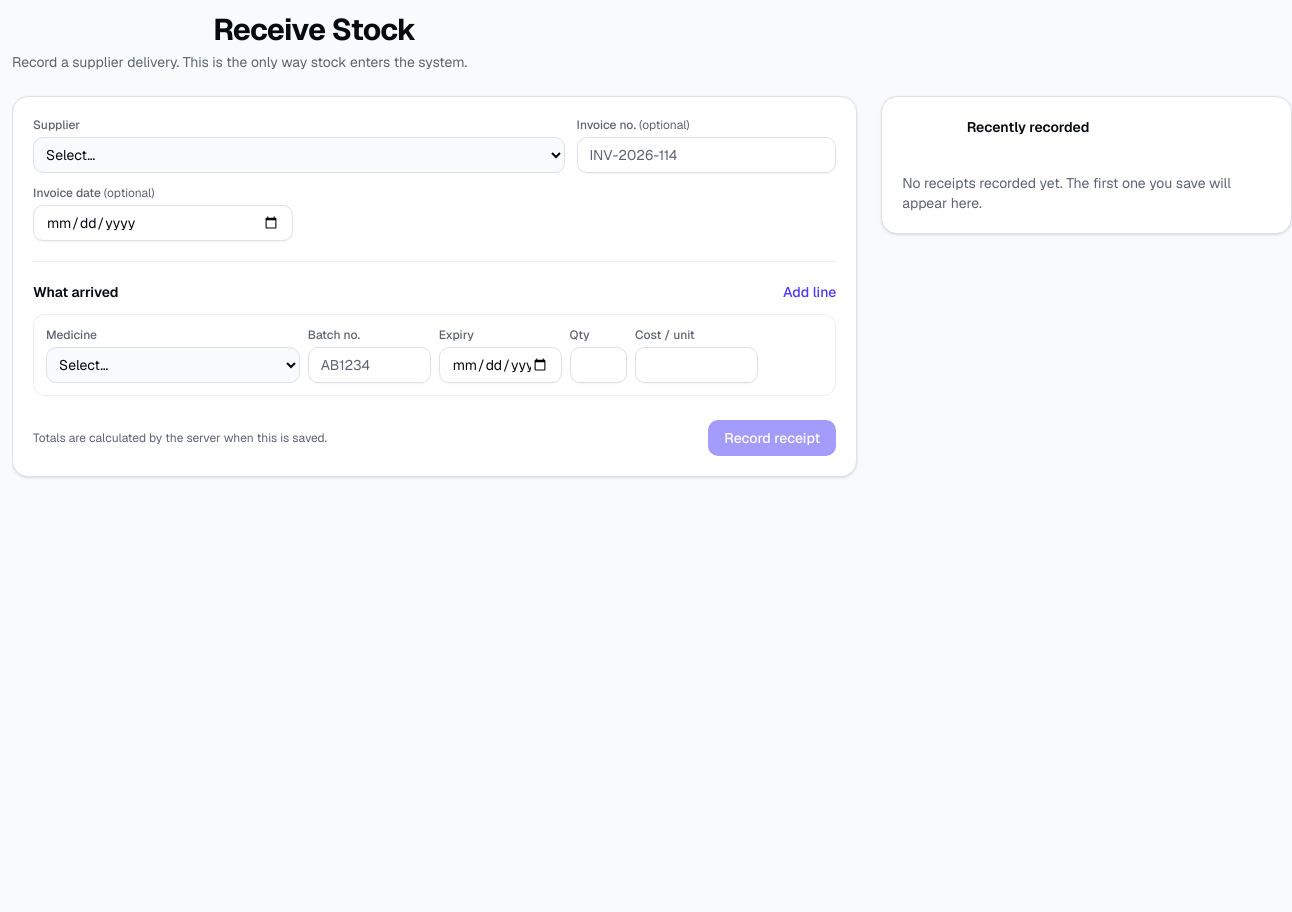
it: success › shows the receipt the server returned, not what was typed
Select "Sun Pharma" in the dropdown labelled "Supplier": (299, 155) [33, 137, 564, 173]
Select "Paracetamol 500mg" in the dropdown labelled "Medicine": (173, 365) [46, 347, 300, 383]
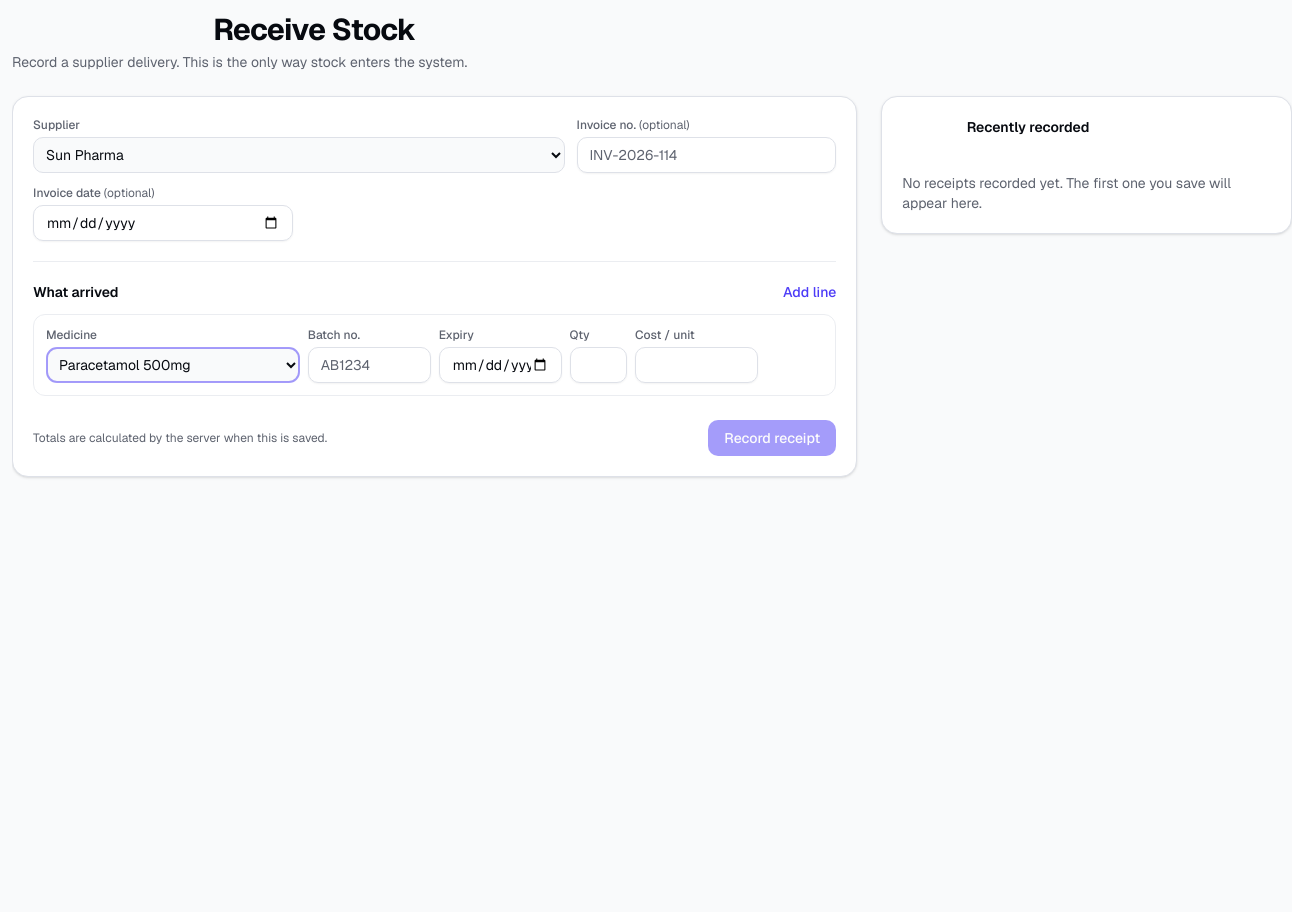
In the field labelled "Batch no.": (369, 365) [308, 347, 431, 383], type "GR-A"
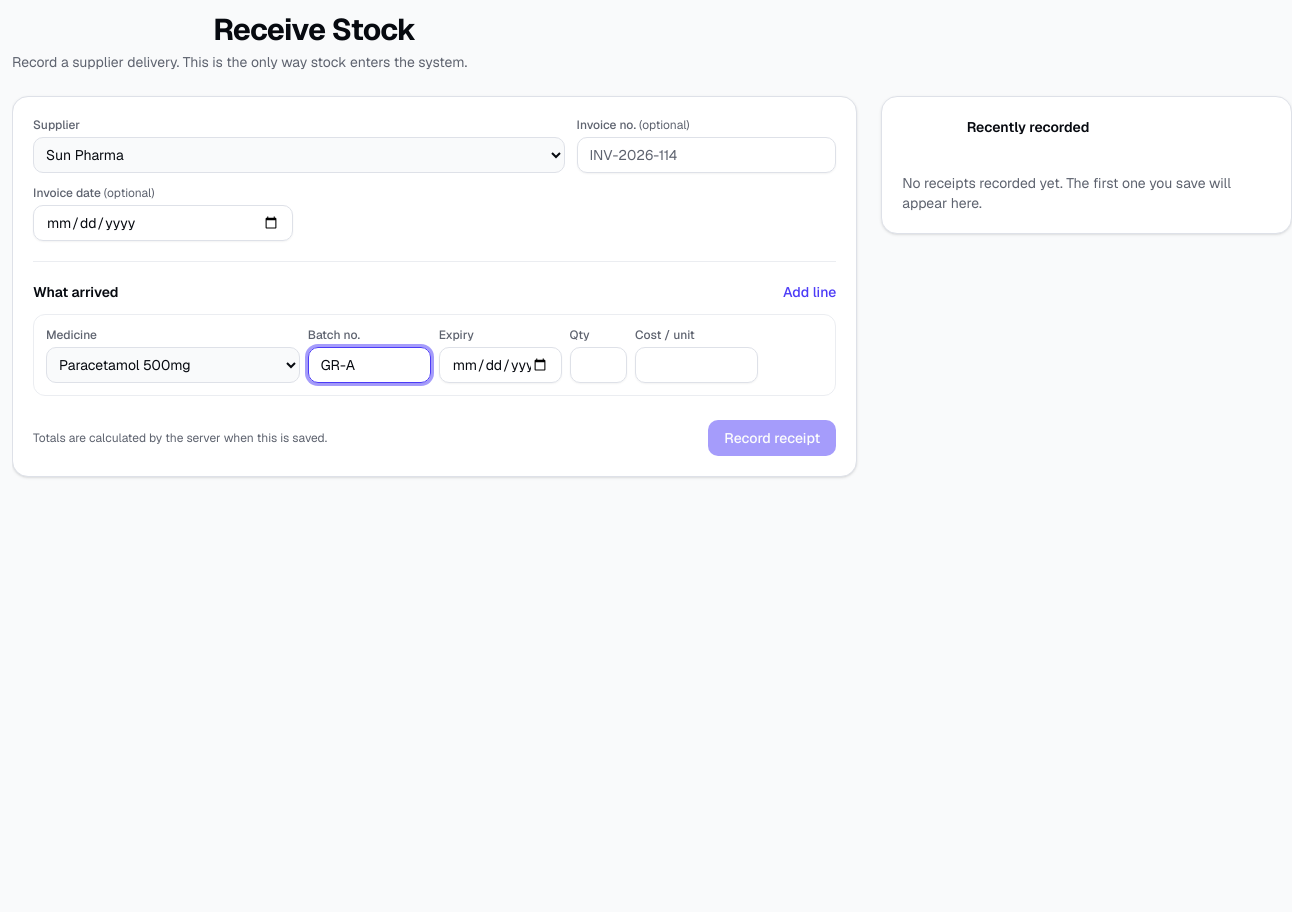
In the date field labelled "Expiry": (500, 365) [439, 347, 562, 383], type "2027-06-30"
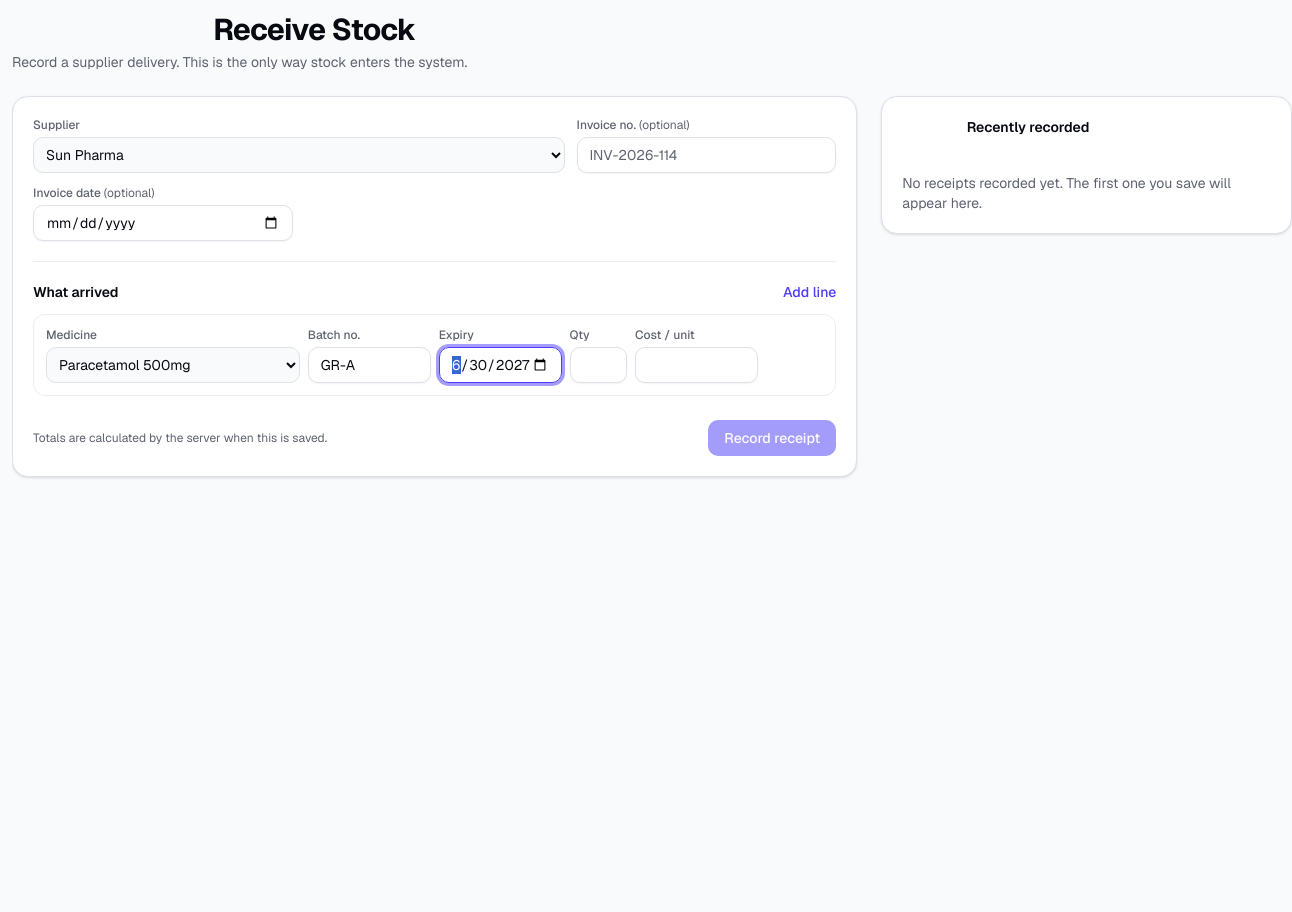
In the number field labelled "Qty": (598, 365) [570, 347, 627, 383], type "100"
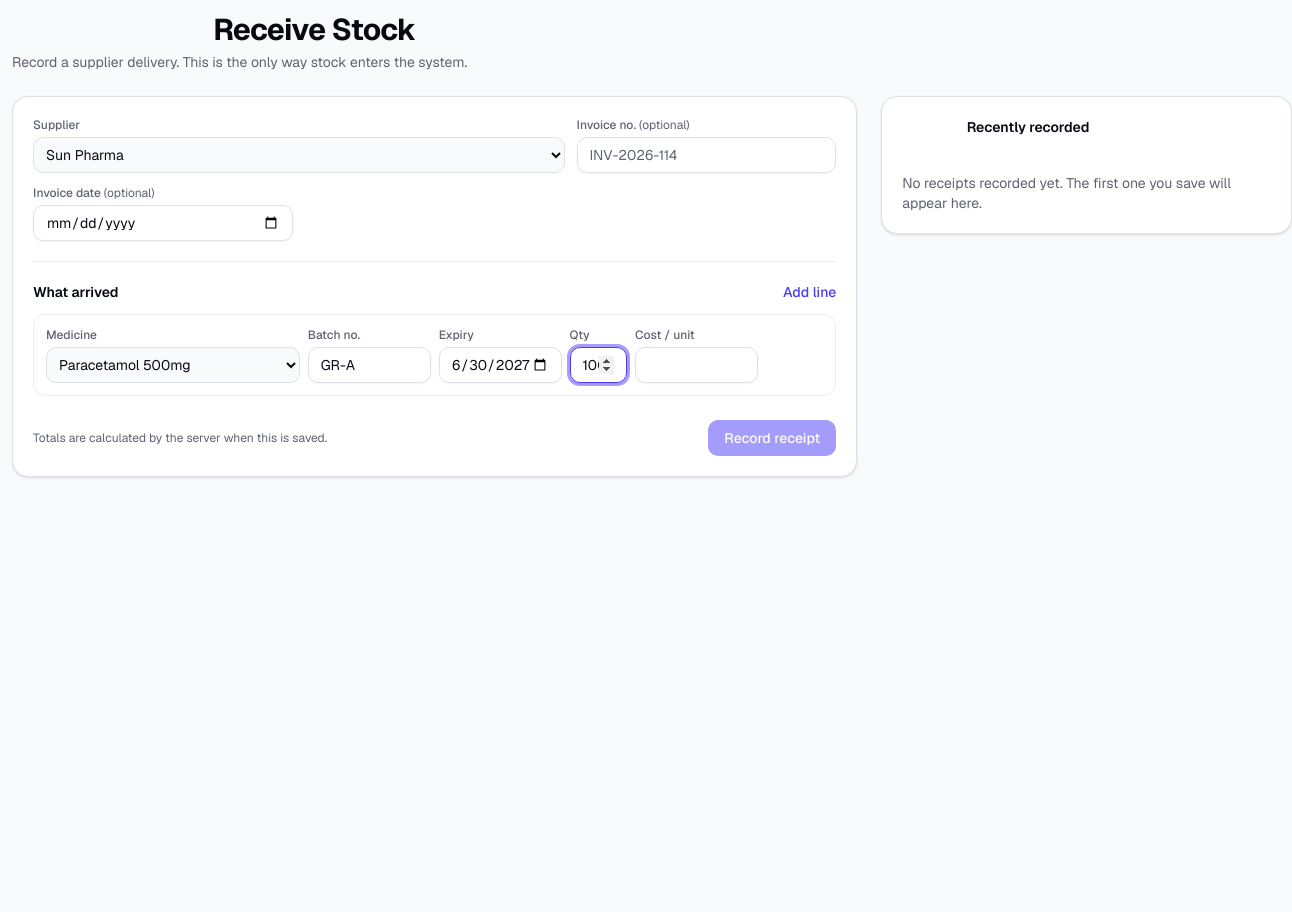
In the number field labelled "Cost / unit": (696, 365) [635, 347, 758, 383], type "12.50"
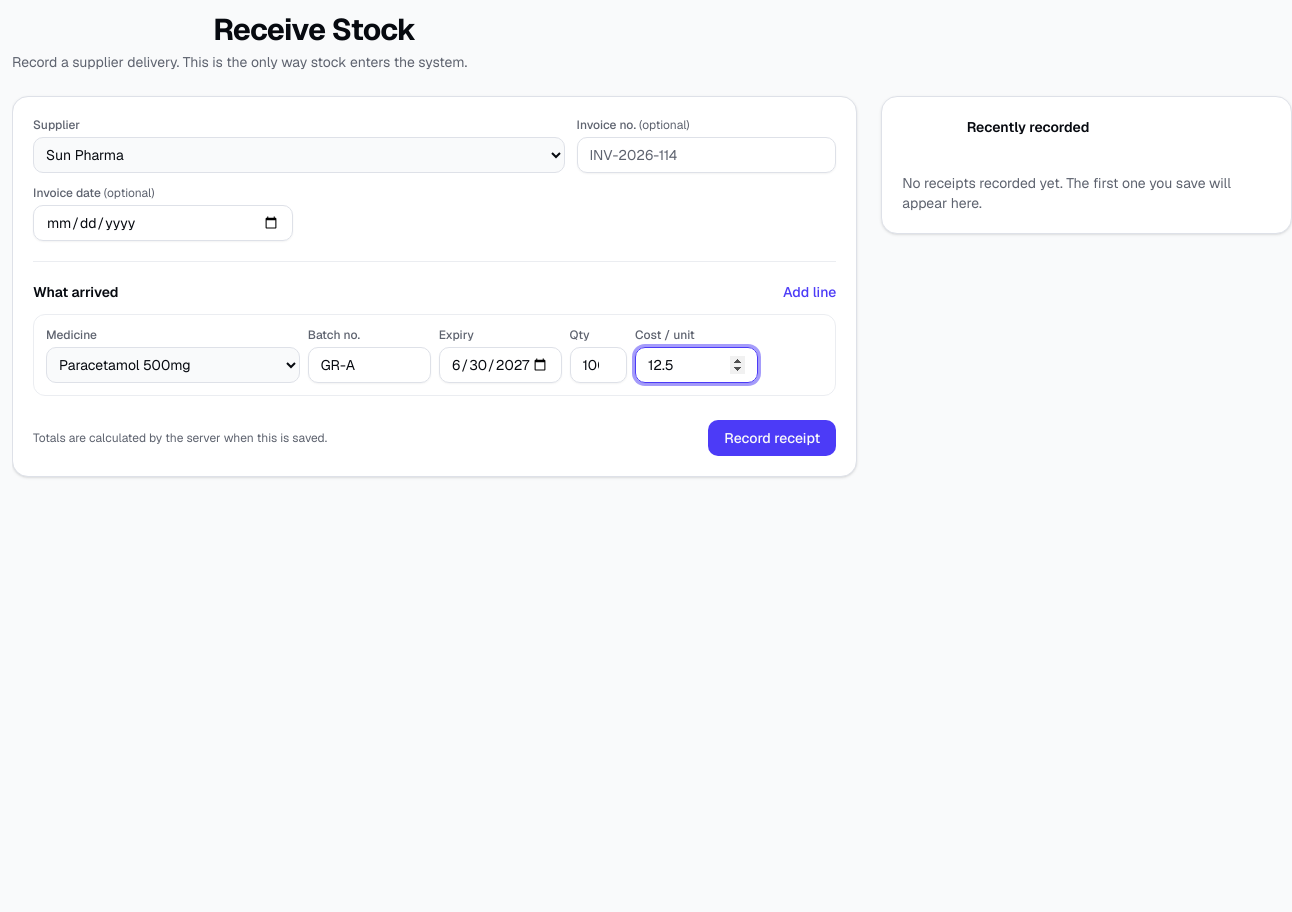
Click the button "Record receipt": (772, 438) [708, 420, 836, 456]
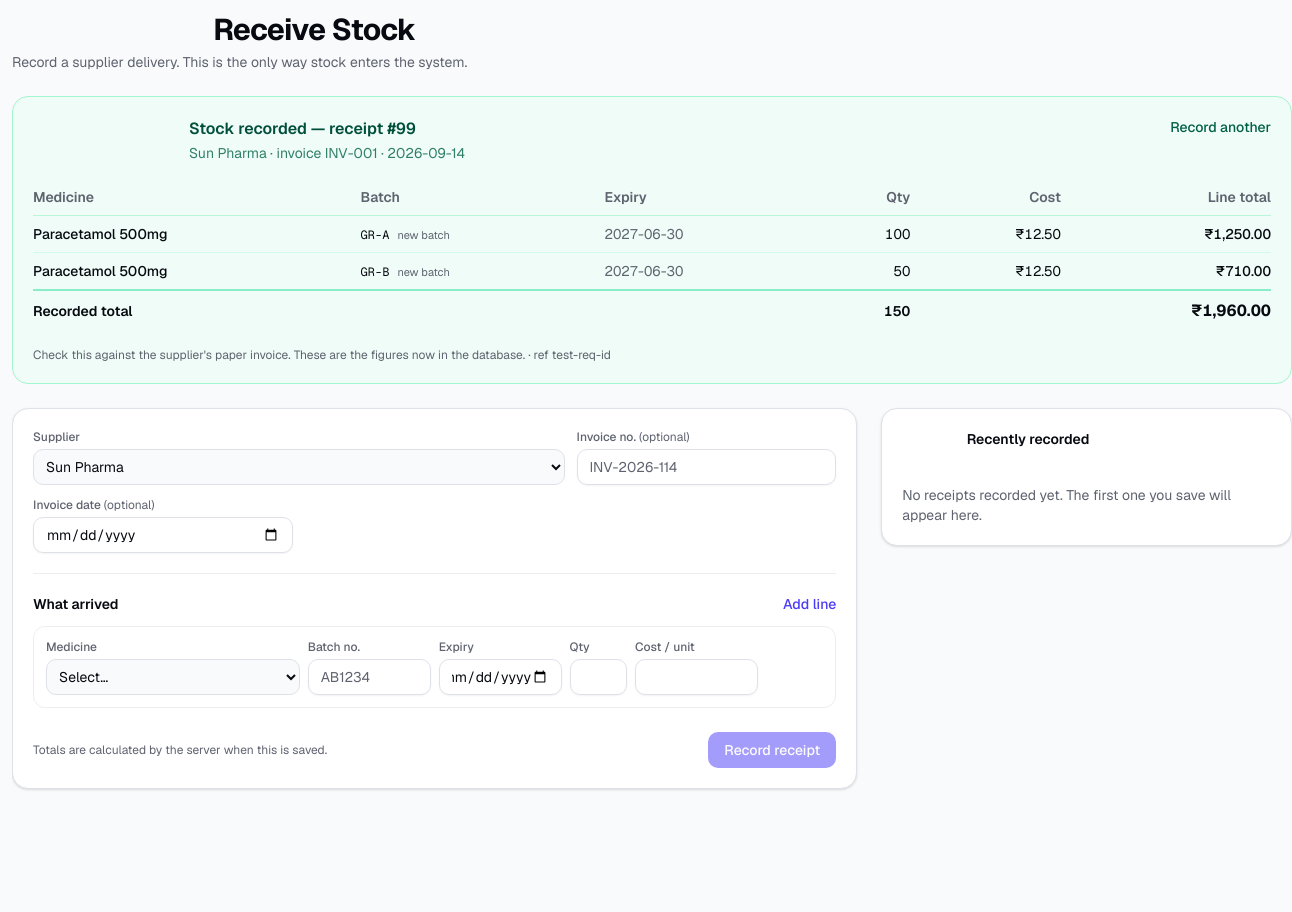
Expected: the text "Stock recorded — receipt #99" is shown, [189, 118, 416, 139]
Expected: the text "₹1,250.00" is shown, [1073, 216, 1271, 252]
Expected: the text "₹1,960.00" is shown, [1073, 290, 1271, 331]
